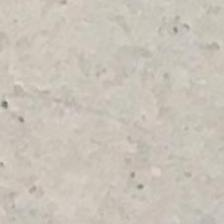Non_Crack: (19, 30, 217, 192)
